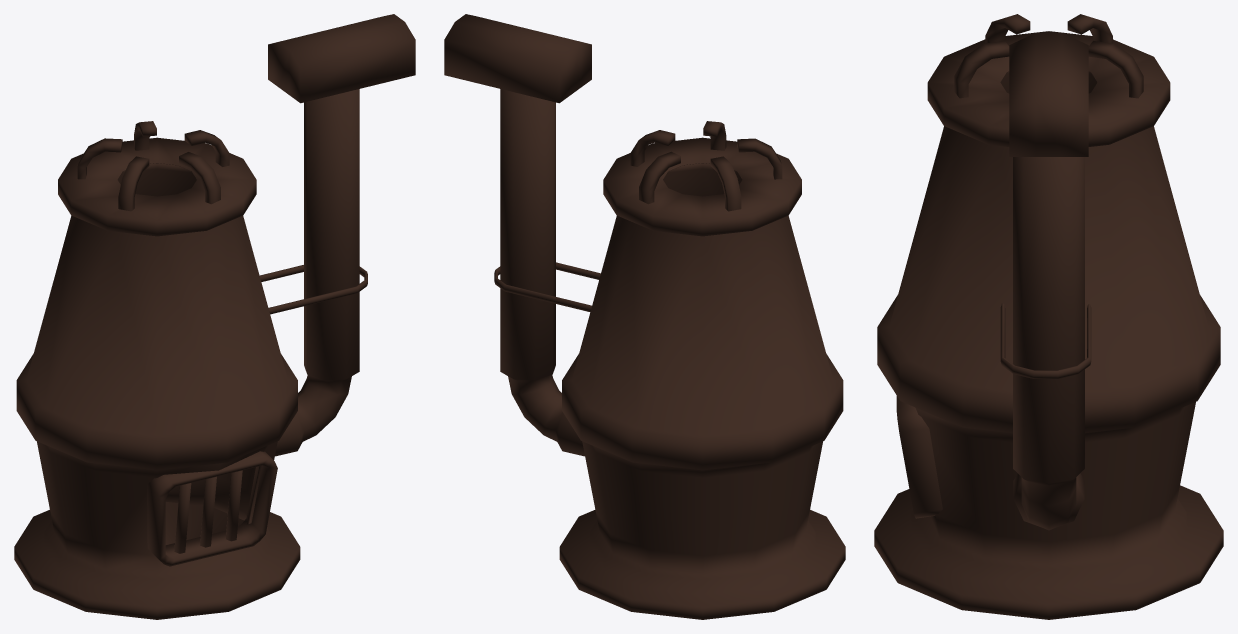
The model's file is Mesh_Freezeland_Heater.FBX.
3 renders of one model, left to right at view 1: azimuth 30°, elevation 25°; view 2: azimuth 150°, elevation 25°; view 3: azimuth 270°, elevation 25°, orthographic. The views are drawn at different scales.
Parts seen in each view (by area): view 1: Mesh_Freezeland_Heater; view 2: Mesh_Freezeland_Heater; view 3: Mesh_Freezeland_Heater.
Part boxes in pixels (left/top/right/bottom): Mesh_Freezeland_Heater: left=14, top=14, right=415, bottom=619; Mesh_Freezeland_Heater: left=444, top=14, right=845, bottom=619; Mesh_Freezeland_Heater: left=874, top=14, right=1223, bottom=619.
Size of what is drawn, in the model's own units: 328 by 222 by 413.
